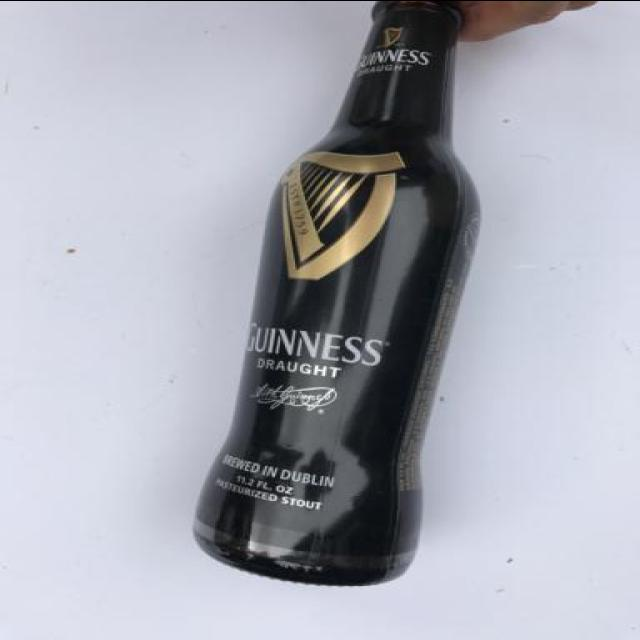litter: (192, 1, 490, 586)
